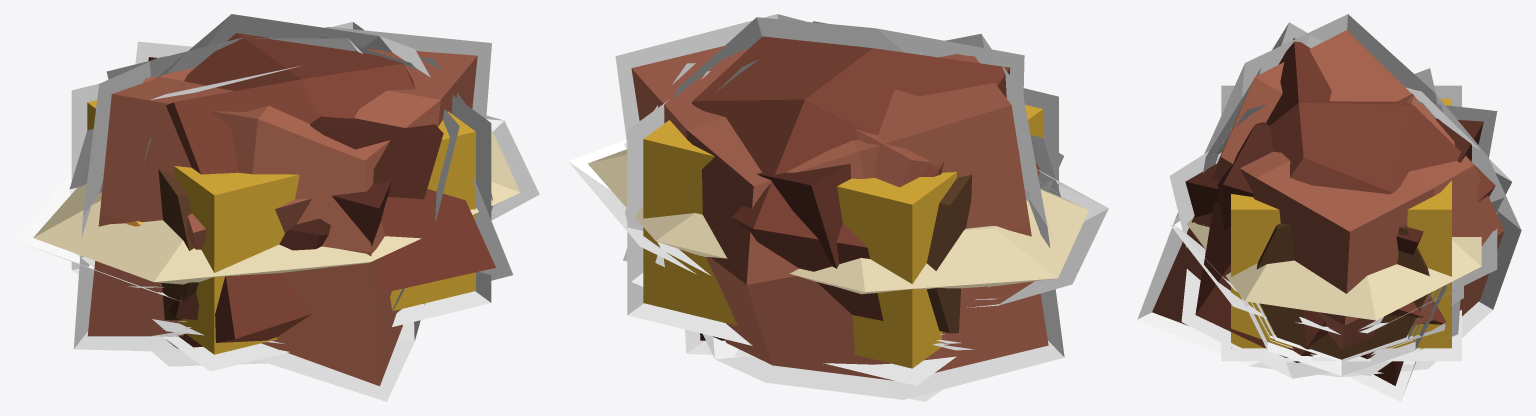
File: koerner.glb
3 views of the same model, side by side, from view 1: azimuth 30°, elevation 25°; view 2: azimuth 150°, elevation 25°; view 3: azimuth 270°, elevation 25° (orthographic). The views are drawn at different scales.
Parts seen in each view (by area): view 1: korn_ruebe_hell_1, korn_ruebe_mittel_1, korn_muesli_gelb_0, korn_muesli_flocken_0, korn_ruebe_dunkel_0, korn_ruebe_hell_0, korn_muesli_pellets_1, korn_ruebe_dunkel_1; view 2: korn_ruebe_hell_1, korn_ruebe_mittel_1, korn_muesli_gelb_0, korn_muesli_flocken_0, korn_ruebe_dunkel_0, korn_muesli_pellets_1, korn_ruebe_hell_0; view 3: korn_ruebe_hell_1, korn_ruebe_mittel_1, korn_muesli_gelb_0, korn_muesli_flocken_0, korn_muesli_pellets_1, korn_ruebe_dunkel_0, korn_ruebe_dunkel_1, korn_ruebe_hell_0, korn_muesli_flocken_1, korn_mineral_mittel_1.
Boxes of the visible parts, bbox=[...] form: korn_ruebe_hell_1: bbox=[73, 27, 491, 401]; korn_ruebe_mittel_1: bbox=[150, 14, 512, 366]; korn_muesli_gelb_0: bbox=[71, 22, 491, 371]; korn_muesli_flocken_0: bbox=[14, 115, 539, 300]; korn_ruebe_dunkel_0: bbox=[135, 41, 459, 343]; korn_ruebe_hell_0: bbox=[106, 38, 362, 249]; korn_muesli_pellets_1: bbox=[69, 57, 492, 336]; korn_ruebe_dunkel_1: bbox=[143, 36, 428, 246]; korn_ruebe_hell_1: bbox=[615, 14, 1064, 399]; korn_ruebe_mittel_1: bbox=[630, 17, 1024, 401]; korn_muesli_gelb_0: bbox=[627, 88, 1058, 385]; korn_muesli_flocken_0: bbox=[568, 139, 1108, 307]; korn_ruebe_dunkel_0: bbox=[624, 21, 921, 357]; korn_muesli_pellets_1: bbox=[625, 63, 1060, 350]; korn_ruebe_hell_0: bbox=[623, 59, 1063, 380]; korn_ruebe_hell_1: bbox=[1137, 14, 1521, 377]; korn_ruebe_mittel_1: bbox=[1181, 22, 1511, 378]; korn_muesli_gelb_0: bbox=[1221, 85, 1461, 361]; korn_muesli_flocken_0: bbox=[1169, 212, 1497, 333]; korn_muesli_pellets_1: bbox=[1241, 223, 1446, 376]; korn_ruebe_dunkel_0: bbox=[1203, 101, 1497, 401]; korn_ruebe_dunkel_1: bbox=[1169, 142, 1452, 376]; korn_ruebe_hell_0: bbox=[1344, 68, 1445, 359]; korn_muesli_flocken_1: bbox=[1172, 221, 1494, 291]; korn_mineral_mittel_1: bbox=[1256, 292, 1432, 362].
Size of the model in its own units: 2.88 by 1.73 by 2.25.
